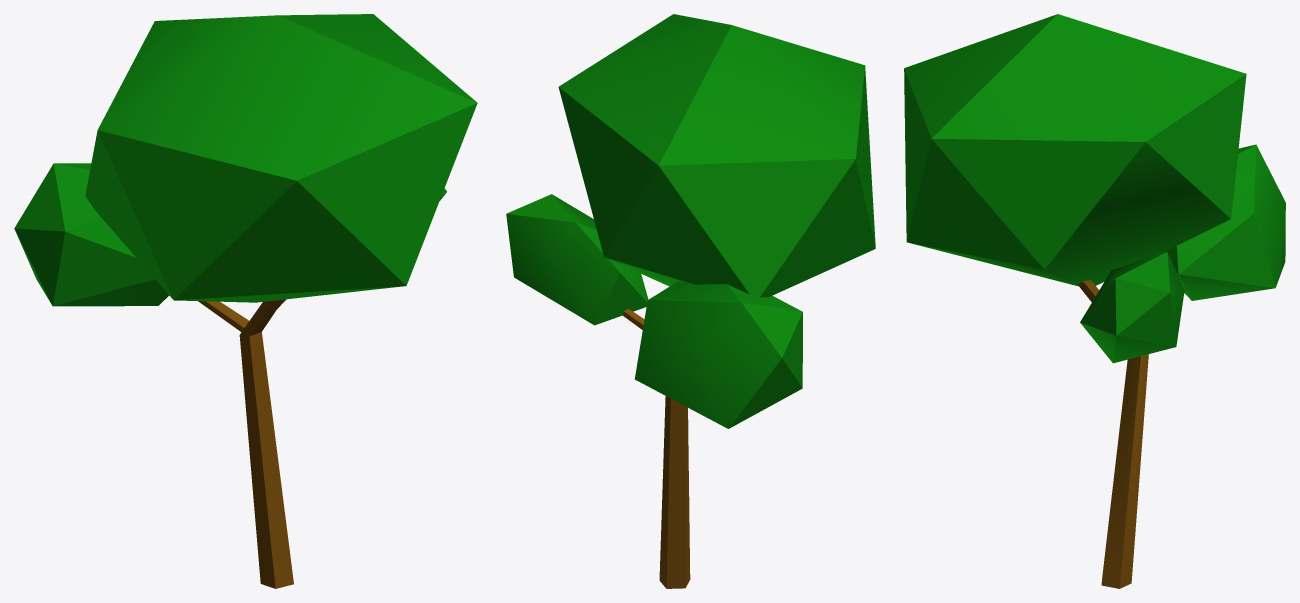
Rendered from M_Tree2.fbx.
3 views of the same model, side by side, from view 1: azimuth 30°, elevation 25°; view 2: azimuth 150°, elevation 25°; view 3: azimuth 270°, elevation 25° (orthographic). The views are drawn at different scales.
Parts seen in each view (by area): view 1: M_Tree2; view 2: M_Tree2; view 3: M_Tree2.
Part boxes in pixels (x1,y1,x2,y2): M_Tree2: [14, 14, 477, 588]; M_Tree2: [506, 14, 875, 588]; M_Tree2: [904, 14, 1285, 588].
Size of the model in its own units: 2.53 by 4.01 by 2.5.
